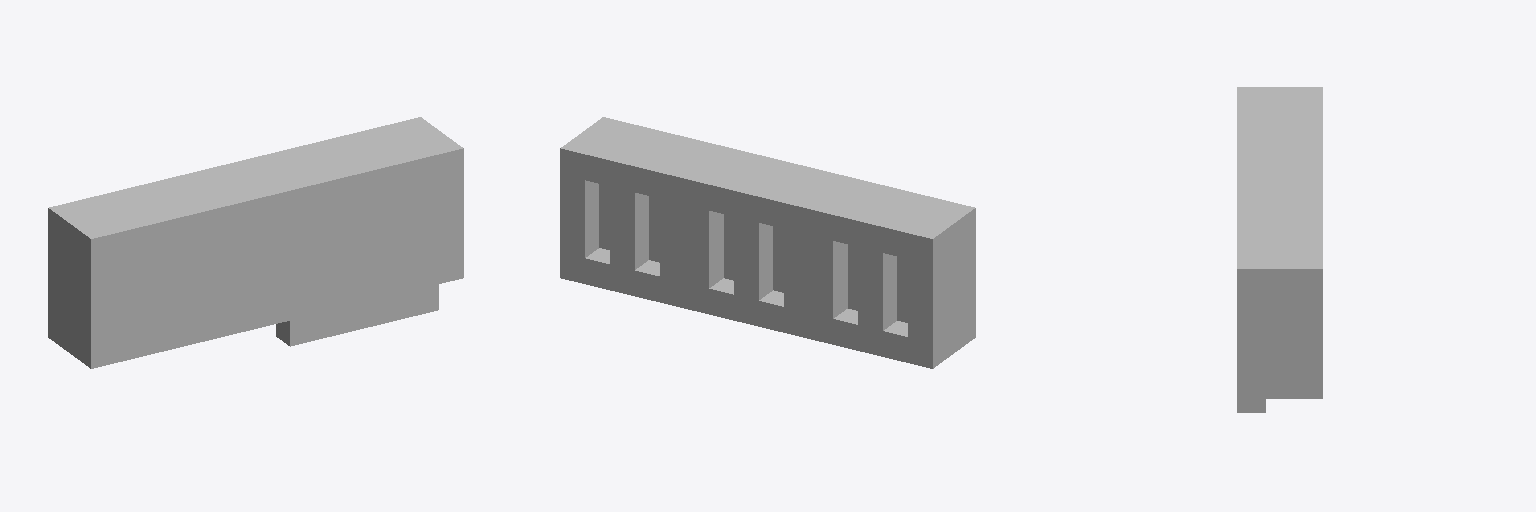
File: mrx_5500.obj
The picture shows the model from 3 angles: view 1: azimuth 30°, elevation 25°; view 2: azimuth 150°, elevation 25°; view 3: azimuth 270°, elevation 25°; orthographic projection.
Parts seen in each view (by area): view 1: cube; view 2: cube; view 3: cube.
Part boxes in pixels (left/top/right/bottom): cube: left=48, top=117, right=463, bottom=368; cube: left=560, top=117, right=975, bottom=368; cube: left=1237, top=87, right=1322, bottom=412.
Size of the model in its own units: 0.9375 by 0.375 by 0.1875.